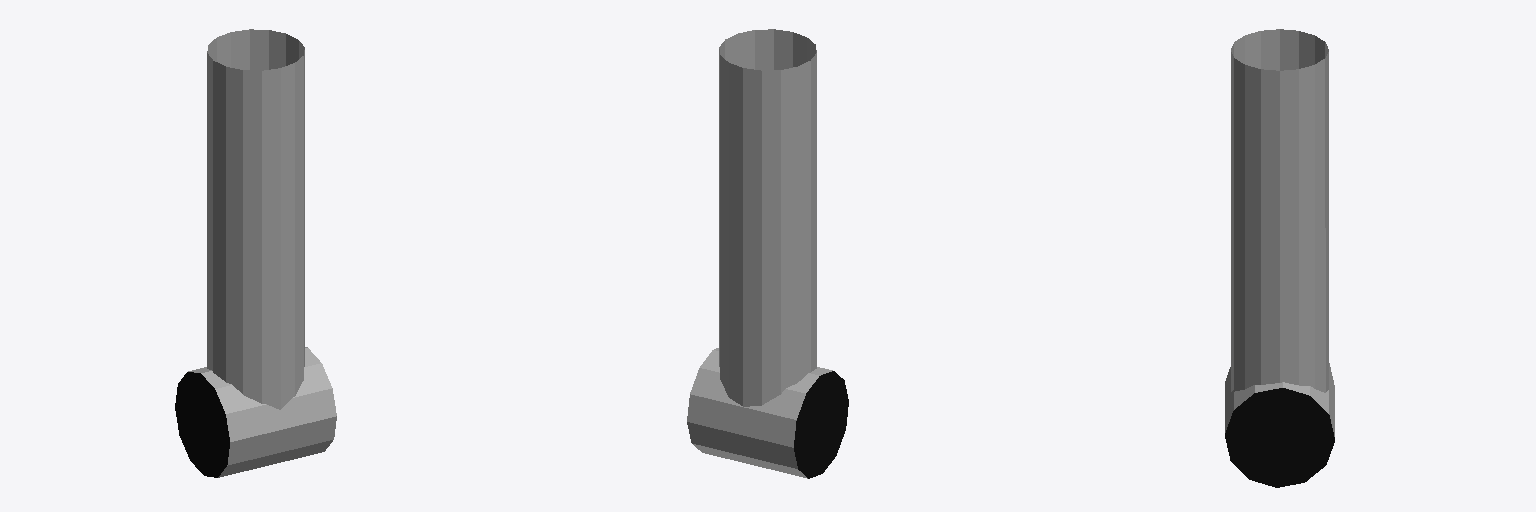
The model's file is ExSmallPiston.obj.
3 renders of one model, left to right at view 1: azimuth 30°, elevation 25°; view 2: azimuth 150°, elevation 25°; view 3: azimuth 270°, elevation 25°, orthographic.
Parts seen in each view (by area): view 1: group_0_ID3.001, group_0.002_ID19; view 2: group_0_ID3.001, group_0.002_ID19; view 3: group_0_ID3.001, group_0.001_ID11.
Boxes of the visible parts, <box> form: group_0_ID3.001: <box>188,29,336,477</box>; group_0.002_ID19: <box>175,372,229,477</box>; group_0_ID3.001: <box>687,29,832,478</box>; group_0.002_ID19: <box>794,371,848,478</box>; group_0_ID3.001: <box>1225,29,1334,436</box>; group_0.001_ID11: <box>1225,388,1334,487</box>.
Size of the model in its own units: 0.1 by 0.3688 by 0.0899.